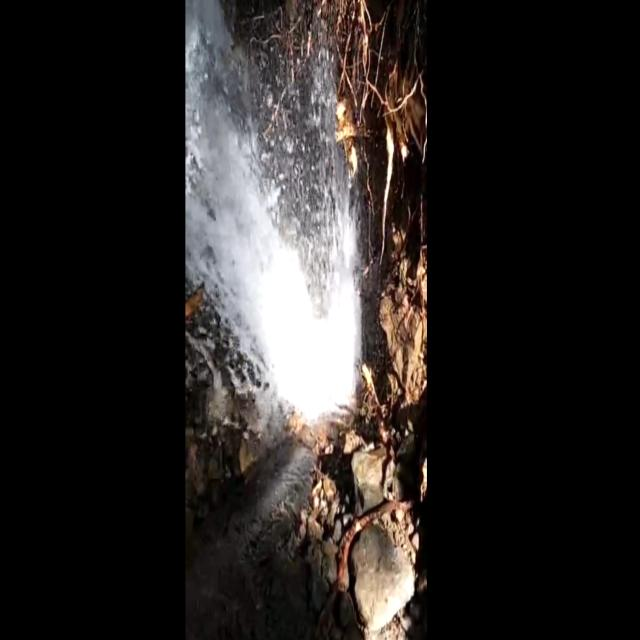leak: (186, 2, 360, 420)
